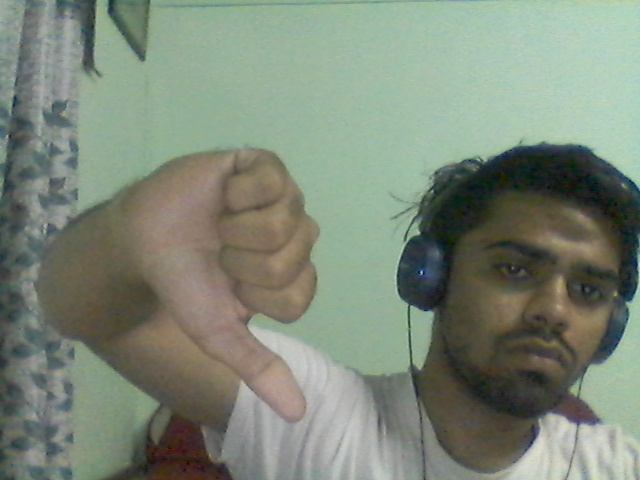No: (68, 116, 361, 449)
